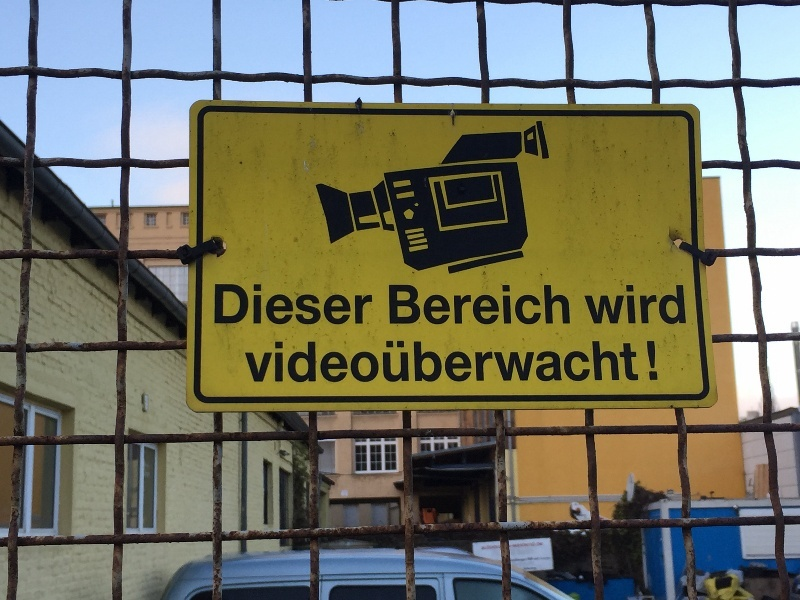text: (593, 272, 608, 326), (609, 272, 624, 326), (625, 272, 640, 326), (641, 272, 656, 326), (657, 272, 672, 326), (673, 272, 687, 326), (241, 340, 256, 385), (257, 340, 272, 385), (273, 340, 288, 385), (289, 340, 304, 385), (305, 340, 320, 385), (321, 340, 336, 385), (337, 340, 352, 385), (353, 340, 368, 385), (369, 340, 384, 385), (385, 340, 400, 385), (401, 340, 416, 385), (417, 340, 432, 385), (433, 340, 448, 385), (449, 340, 464, 385), (465, 340, 480, 385), (481, 340, 496, 385), (497, 340, 512, 385), (513, 340, 528, 385), (529, 340, 544, 385), (545, 340, 560, 385), (561, 340, 576, 385), (577, 340, 592, 385), (593, 340, 608, 385), (609, 340, 624, 385), (625, 340, 640, 385), (641, 340, 656, 385), (225, 284, 240, 325), (241, 284, 256, 325), (257, 284, 272, 325), (273, 284, 288, 325), (289, 284, 304, 325), (305, 284, 320, 325), (321, 284, 336, 325), (337, 284, 352, 325), (353, 284, 368, 325), (401, 285, 416, 325), (417, 285, 432, 325), (433, 285, 448, 325), (449, 285, 464, 325), (465, 285, 480, 325), (481, 285, 496, 325), (497, 285, 512, 325), (513, 285, 528, 325), (529, 285, 544, 325), (545, 285, 560, 325), (388, 285, 400, 325), (584, 272, 592, 326), (214, 284, 224, 325), (561, 285, 571, 325), (369, 284, 378, 325), (657, 340, 660, 385), (513, 556, 528, 562), (529, 556, 544, 562), (513, 542, 528, 548), (529, 542, 543, 548), (753, 561, 766, 567), (481, 545, 496, 550), (753, 554, 768, 558), (785, 554, 800, 558), (545, 556, 551, 562), (745, 554, 752, 558), (769, 554, 776, 558), (529, 567, 538, 570), (497, 545, 501, 550), (524, 567, 528, 570), (510, 542, 512, 548), (750, 561, 752, 567), (511, 556, 512, 562)
